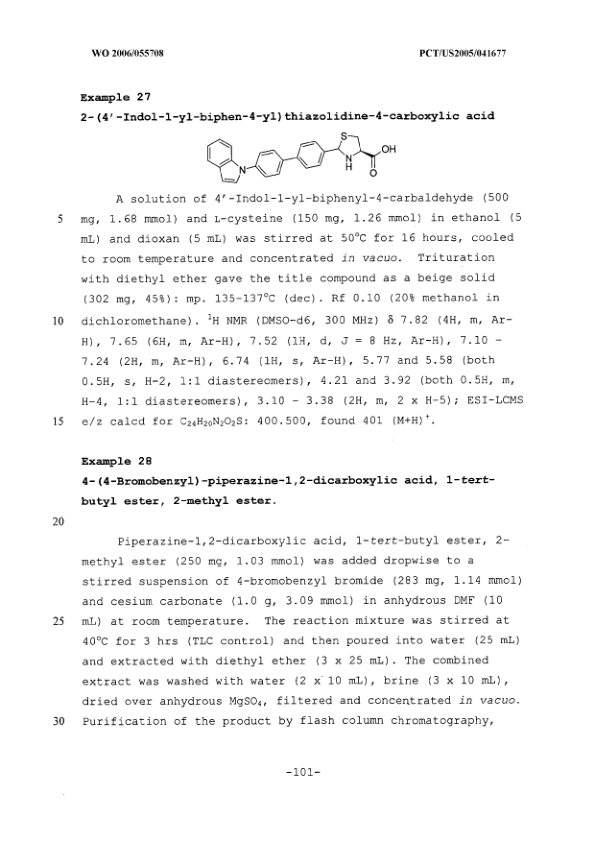compound-structure: (187, 127, 400, 184)
